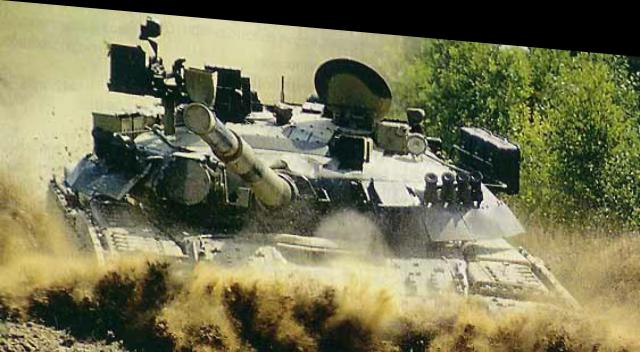tank: (56, 41, 558, 290)
